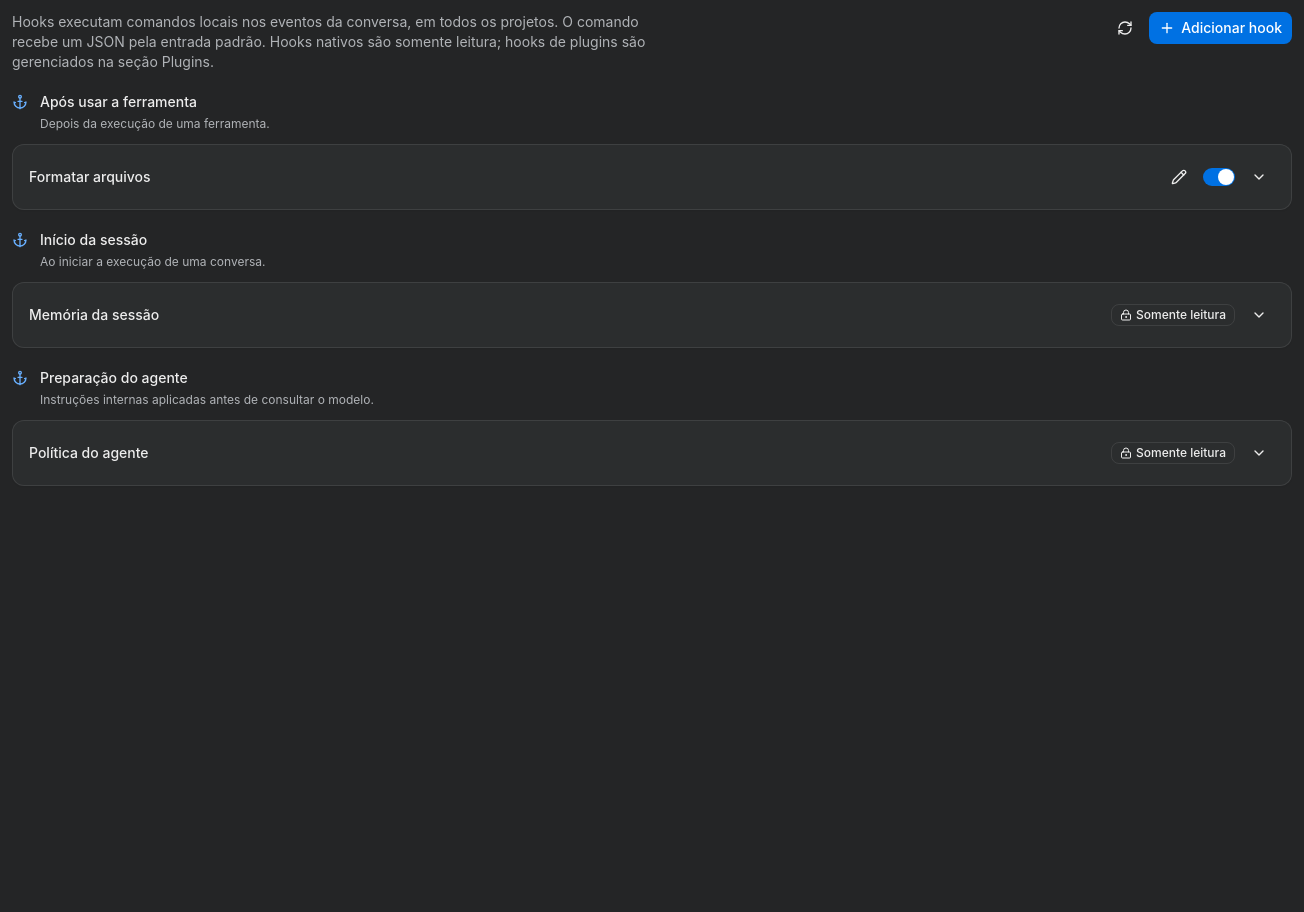
Test: HooksSettings › groups actual events and keeps native hooks strictly read-only
The width and height of the screenshot is (1304, 912).
Expected: the button named "Detalhes do hook Memória da sessão" is shown, [1243,299,1275,331]
Expected: the heading "Início da sessão" is shown, [40,231,147,248]
Click the button named "Detalhes do hook Política do agente". click: point(1259, 453)
box: [1243,437,1275,469]
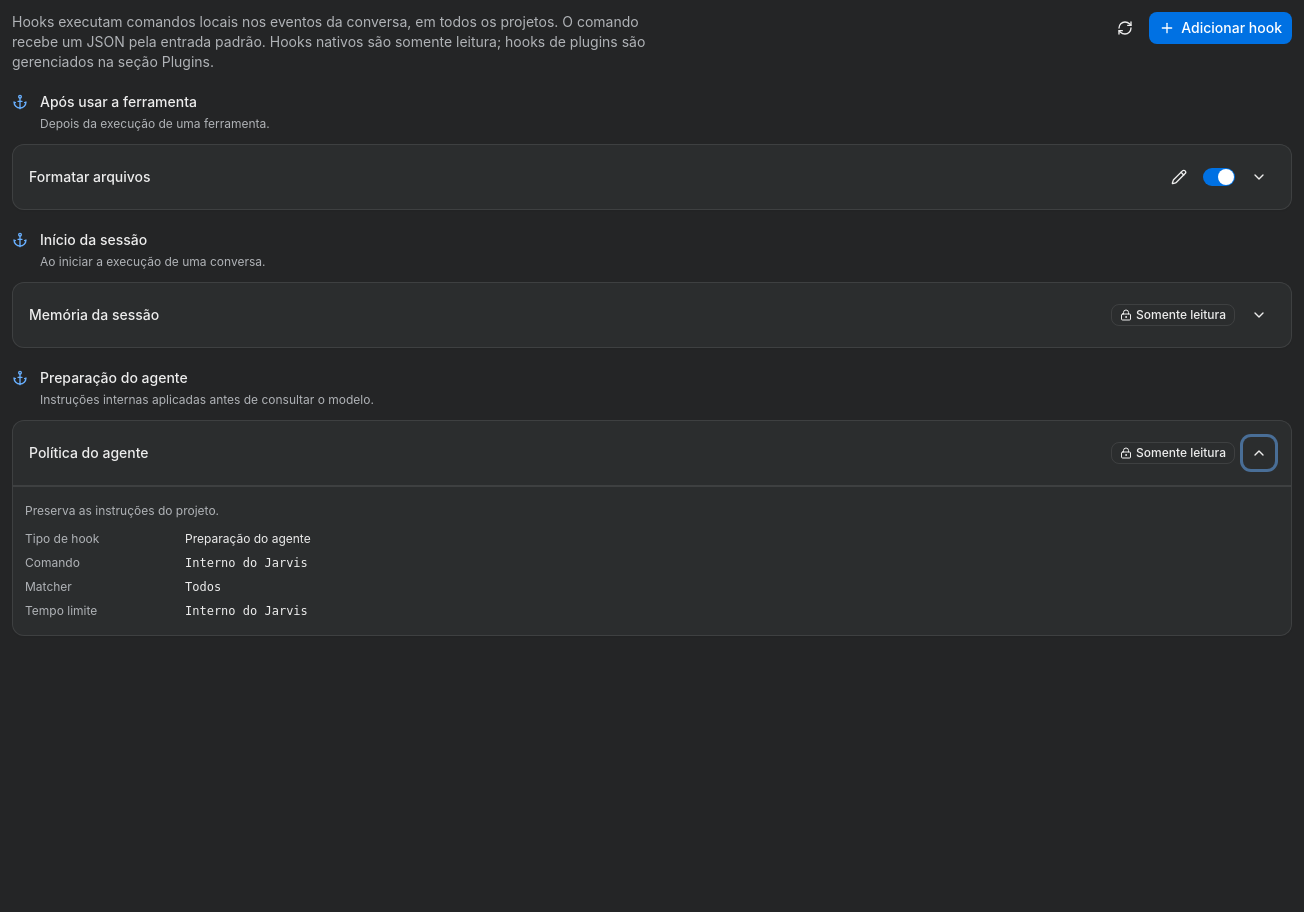
Now the text "Interno do Jarvis" is shown 2 times, box [185,556,308,570]; [185,604,308,618]
